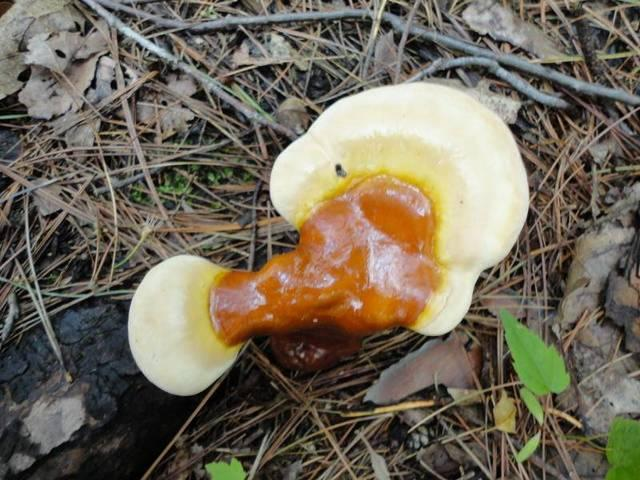Non-edible Mushroom: (125, 79, 531, 397)
